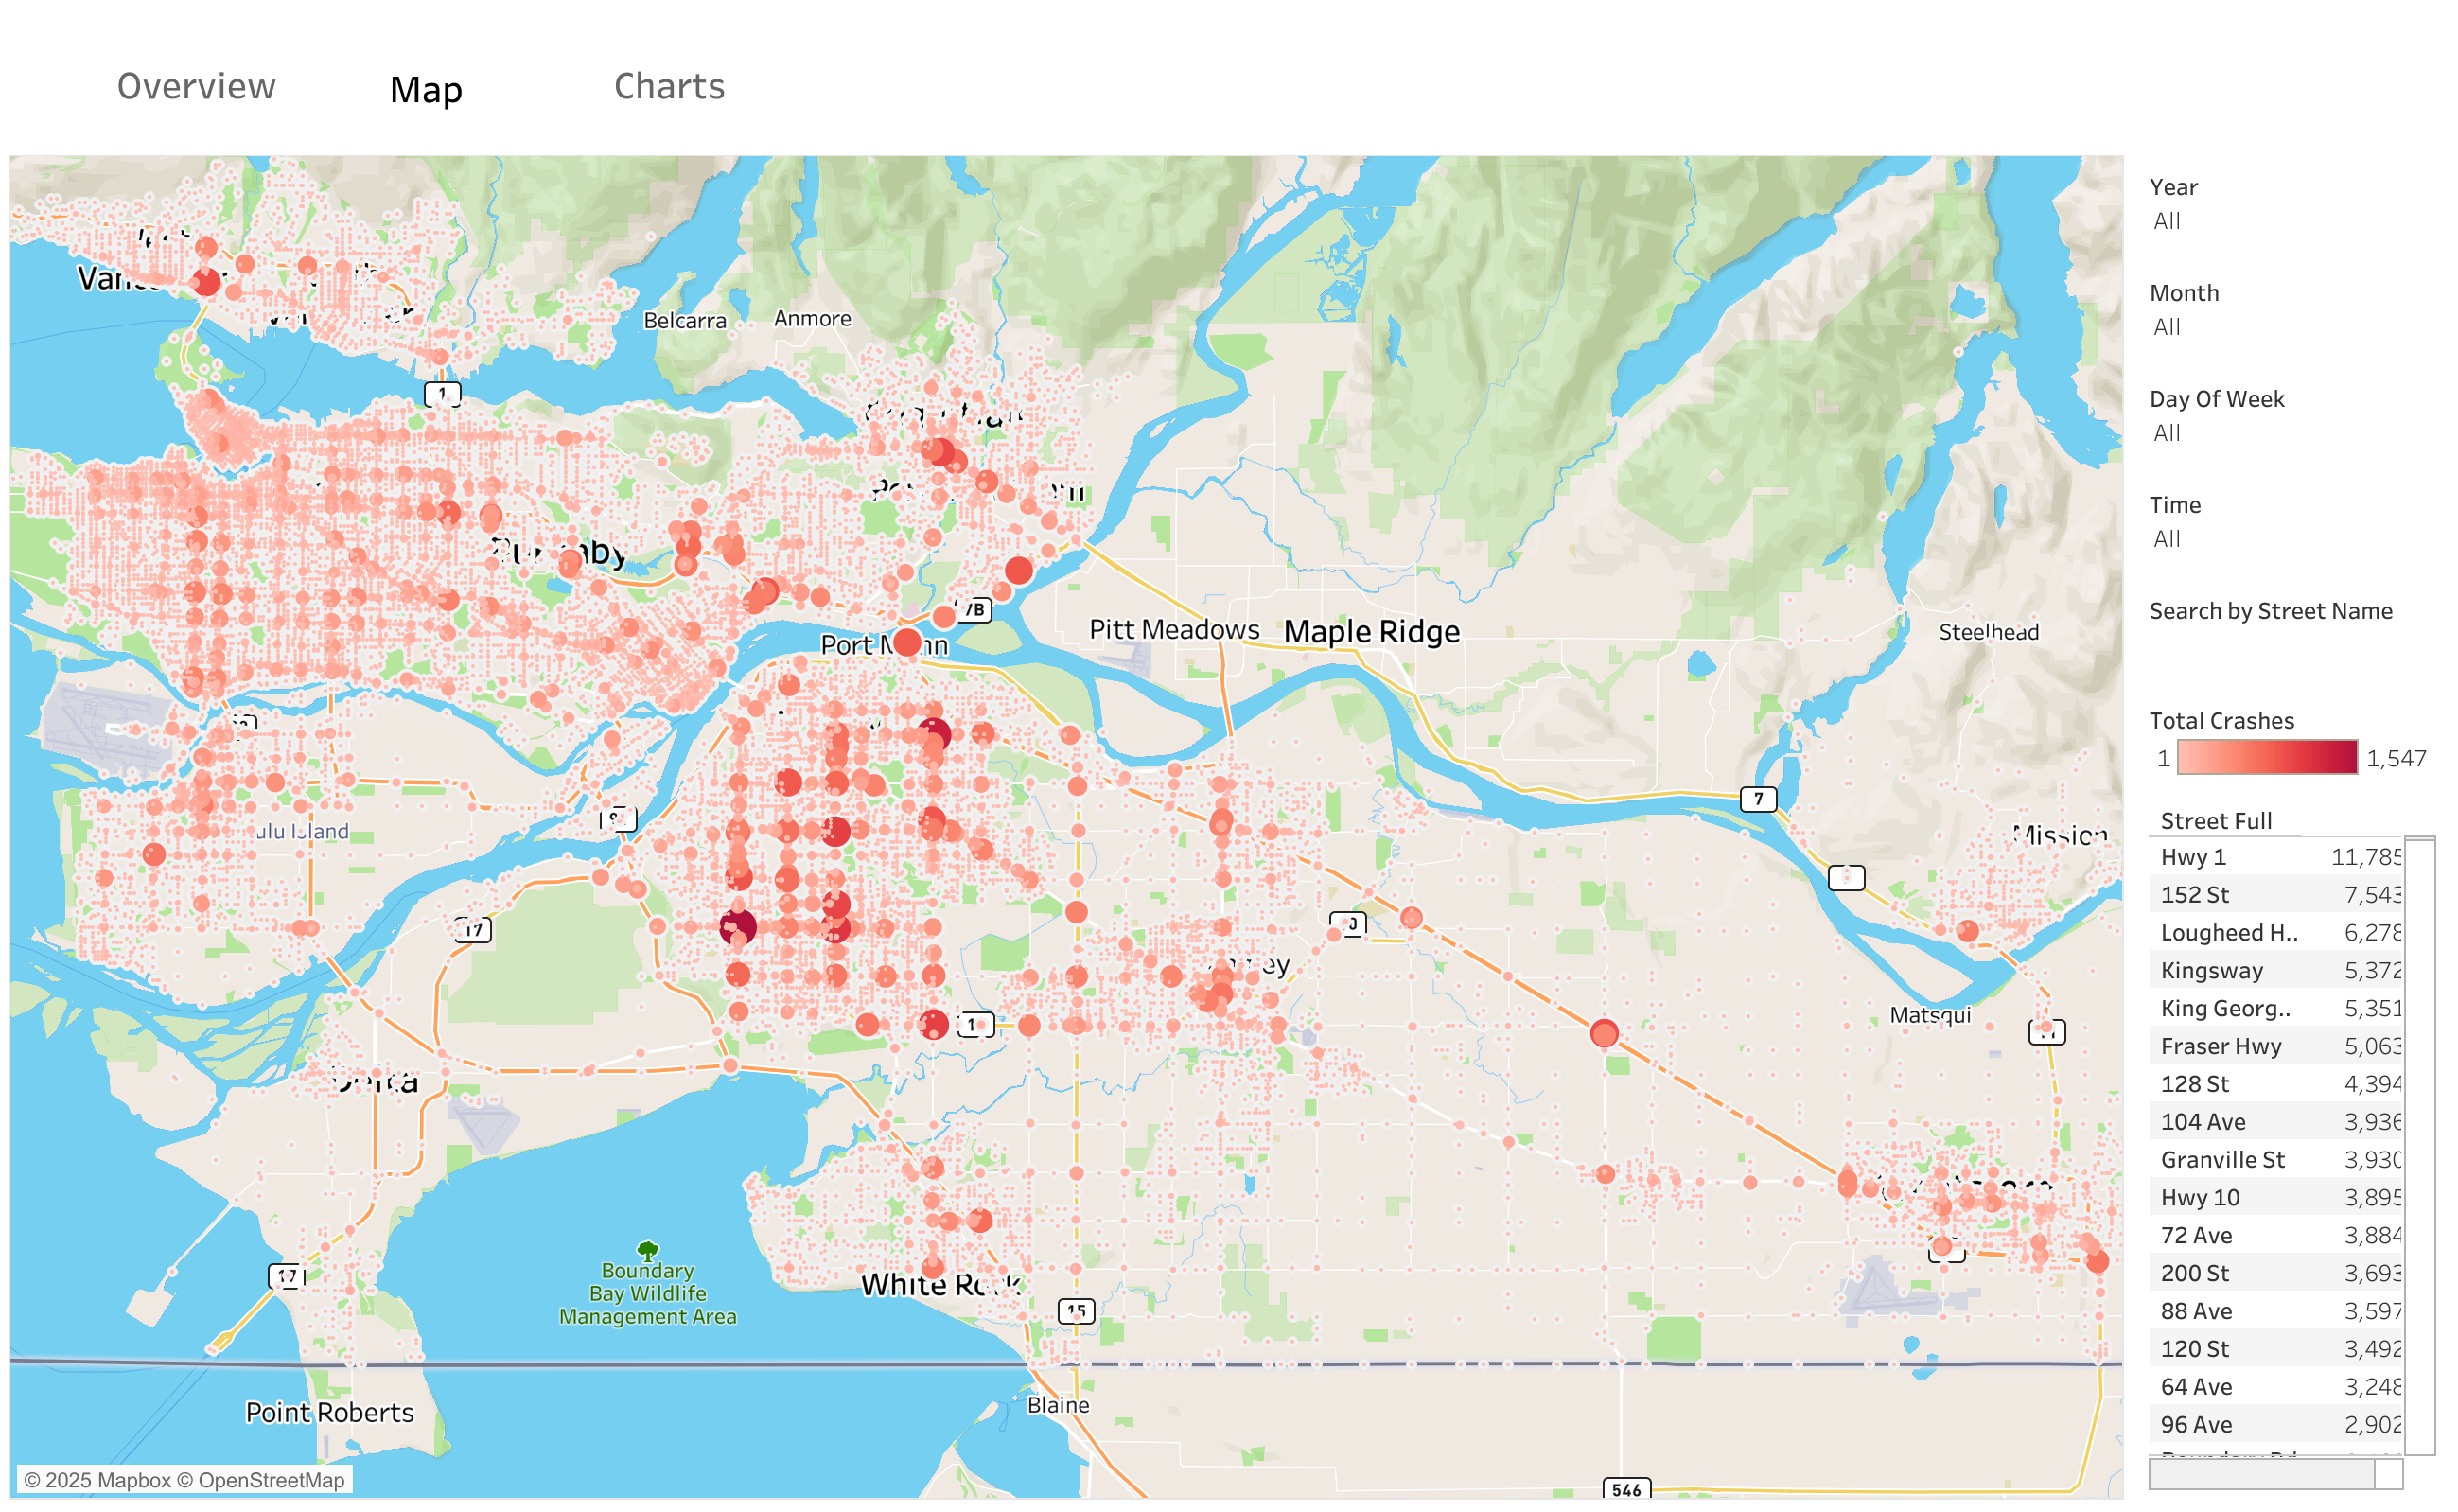

This screenshot's page, from the dashboard's own definition file:
{"tool":"tableau","page":{"name":"Map","canvas":[1300,800],"ordinal":1},"visuals":[{"type":"blank","box":[8,8,1284,76]},{"type":"dashboard-object","box":[272,17,164,54]},{"type":"dashboard-object","box":[22,18,164,52]},{"type":"text","box":[203,31,100,30]},{"type":"worksheet","title":"Sheet 1","mark":"Automatic","rows":["latitude"],"cols":["longitude"],"box":[5,82,1118,711]},{"type":"filter","title":"Sheet 1","param":"[federated.0c9a6uz0lrnp0j15dlqtx1dh9myq].[none:year:nk]","box":[1132,84,160,52]},{"type":"filter","title":"Sheet 1","param":"[federated.0c9a6uz0lrnp0j15dlqtx1dh9myq].[none:month:nk]","box":[1132,136,160,52]},{"type":"filter","title":"Sheet 1","param":"[federated.0c9a6uz0lrnp0j15dlqtx1dh9myq].[none:day_of_week:nk]","box":[1132,188,160,52]},{"type":"filter","title":"Sheet 1","param":"[federated.0c9a6uz0lrnp0j15dlqtx1dh9myq].[none:time_category:nk]","box":[1132,240,160,52]},{"type":"filter","title":"Sheet 1","param":"[federated.0c9a6uz0lrnp0j15dlqtx1dh9myq].[none:street_full:nk]","box":[1132,292,160,49]},{"type":"legend","title":"Sheet 1","param":"[federated.0c9a6uz0lrnp0j15dlqtx1dh9myq].[sum:total_crashes:qk]","box":[1132,341,160,55]},{"type":"worksheet","title":"Sheet 2","mark":"Automatic","rows":["street_full"],"box":[1132,396,160,396]}]}

Visuals, with their boxes in screenshot pixels (x1, y1, x2, y2), scaled from the page's 1300x800 canvas onto the 2458x1512 screenshot:
blank: box(15, 15, 2443, 159)
dashboard-object: box(515, 32, 824, 134)
dashboard-object: box(42, 34, 352, 132)
text: box(384, 59, 573, 115)
"Sheet 1" worksheet: box(9, 155, 2123, 1499)
"Sheet 1" filter: box(2140, 159, 2443, 257)
"Sheet 1" filter: box(2140, 257, 2443, 356)
"Sheet 1" filter: box(2140, 356, 2443, 453)
"Sheet 1" filter: box(2140, 453, 2443, 552)
"Sheet 1" filter: box(2140, 552, 2443, 644)
"Sheet 1" legend: box(2140, 644, 2443, 748)
"Sheet 2" worksheet: box(2140, 748, 2443, 1497)
